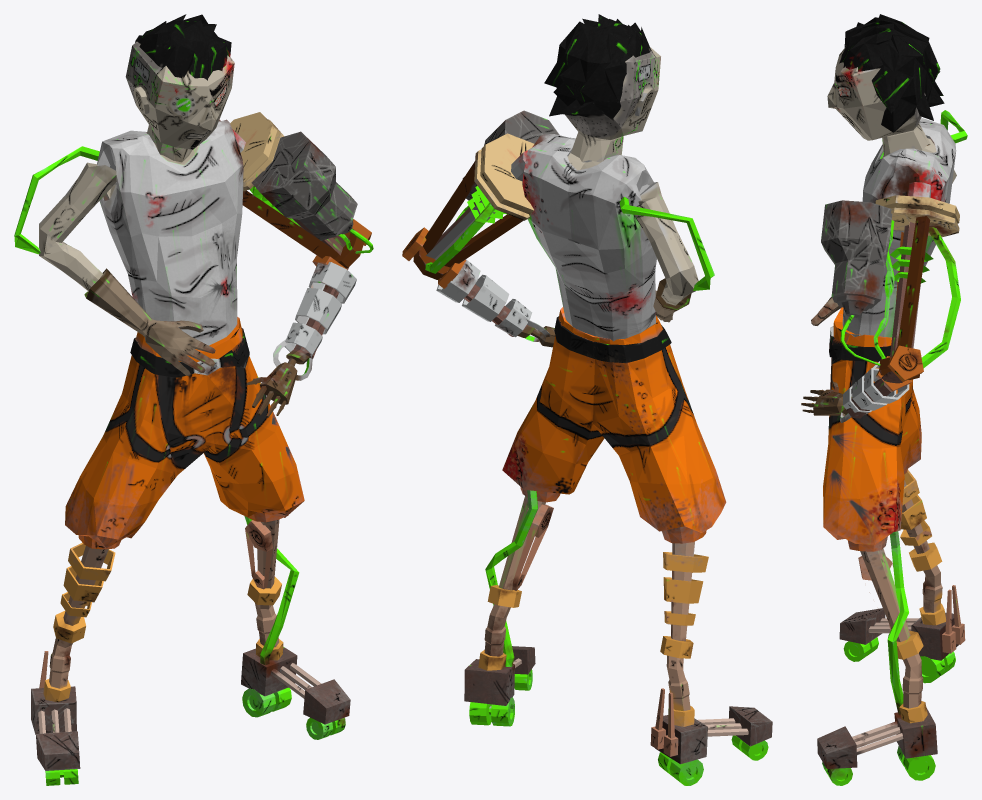
Rendered from CyborgFINALAnimation_000049.obj.
The picture shows the model from 3 angles, left to right: view 1: azimuth 30°, elevation 25°; view 2: azimuth 150°, elevation 25°; view 3: azimuth 270°, elevation 25°; orthographic projection. The views are drawn at different scales.
Parts seen in each view (by area): view 1: CyborgMesh_Cube.002; view 2: CyborgMesh_Cube.002; view 3: CyborgMesh_Cube.002.
Boxes of the visible parts, x1=… form: CyborgMesh_Cube.002: x1=14, y1=14, x2=373, y2=785; CyborgMesh_Cube.002: x1=402, y1=14, x2=772, y2=785; CyborgMesh_Cube.002: x1=801, y1=14, x2=967, y2=785.
Size of the model in its own units: 4.82 by 9.59 by 2.05.
